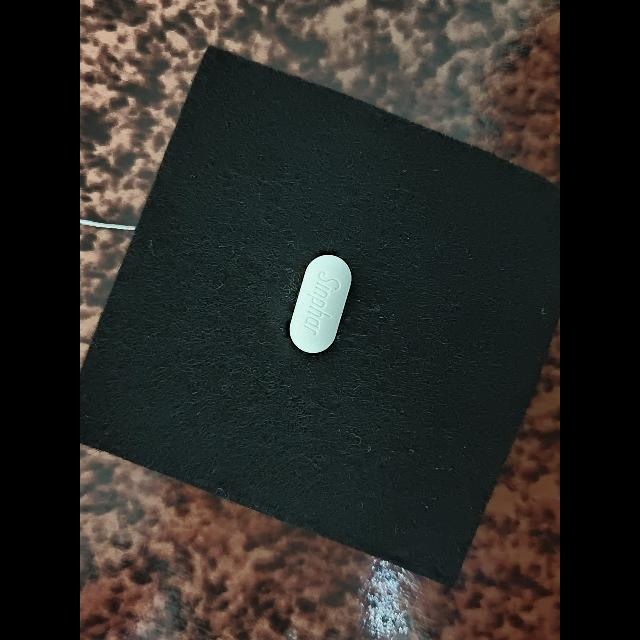Intact Pill: (289, 254, 352, 353)
